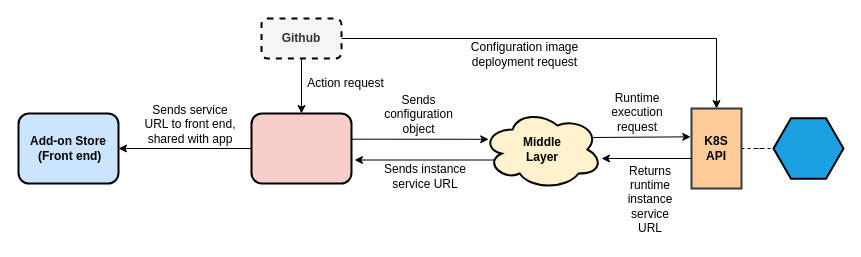
This 861x257 diagram has some shape labels left out. Here are the shapes that lost their labels. From the top down, the box of each, then its label:
(250, 112, 352, 184): Add-on Server (Back end)
(772, 117, 844, 179): K8S Cluster
